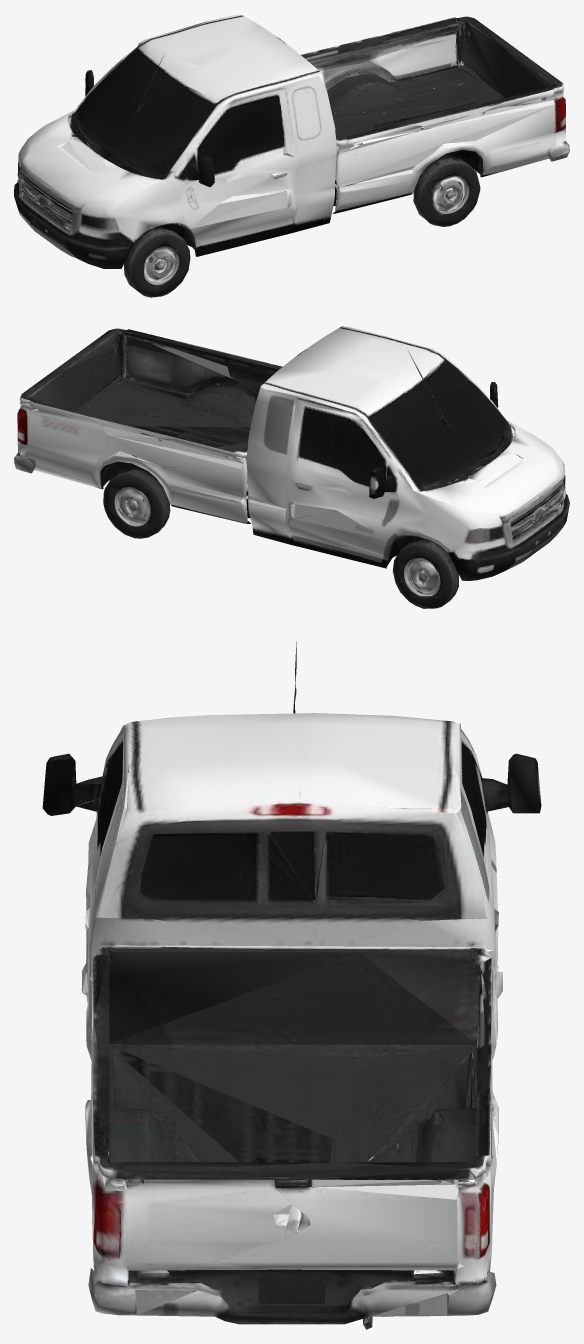
Rendered from parked_pickup_01.glb.
The picture shows the model from 3 angles, top to bottom: view 1: azimuth 30°, elevation 25°; view 2: azimuth 150°, elevation 25°; view 3: azimuth 270°, elevation 25°; orthographic projection. The views are drawn at different scales.
Visible parts, largest first — view 1: output_unwrapped; view 2: output_unwrapped; view 3: output_unwrapped.
Boxes of the visible parts, x1,y1,x2,y2 form: output_unwrapped: (14, 14, 569, 297); output_unwrapped: (14, 326, 569, 608); output_unwrapped: (42, 641, 541, 1329).
Size of the model in its own units: 1.9 by 0.802 by 0.8481.
Materials: 1 (1 with a texture image).
